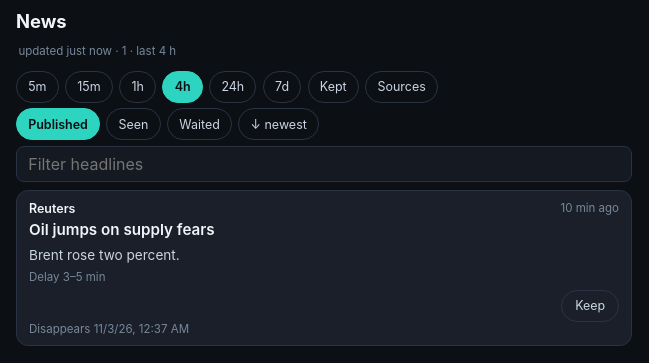
NewsScreen › marks the card kept when the write goes through
The width and height of the screenshot is (649, 363).
Check: the text "Oil jumps on supply fears" is shown, box top-left (29, 220), bottom-right (215, 239)
Click the button "Keep" at [590, 306], box top-left (561, 290), bottom-right (619, 322)
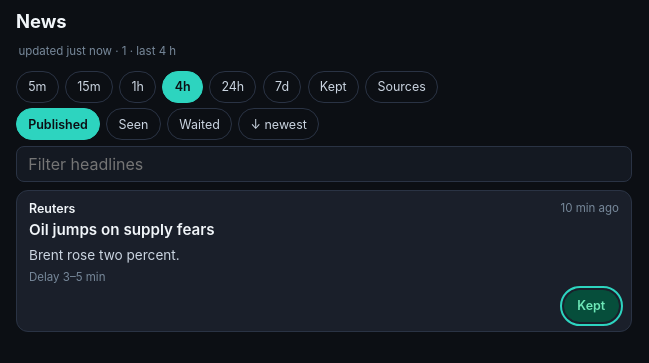
Check: the 2nd button "Kept" is shown, box top-left (564, 290), bottom-right (619, 322)
